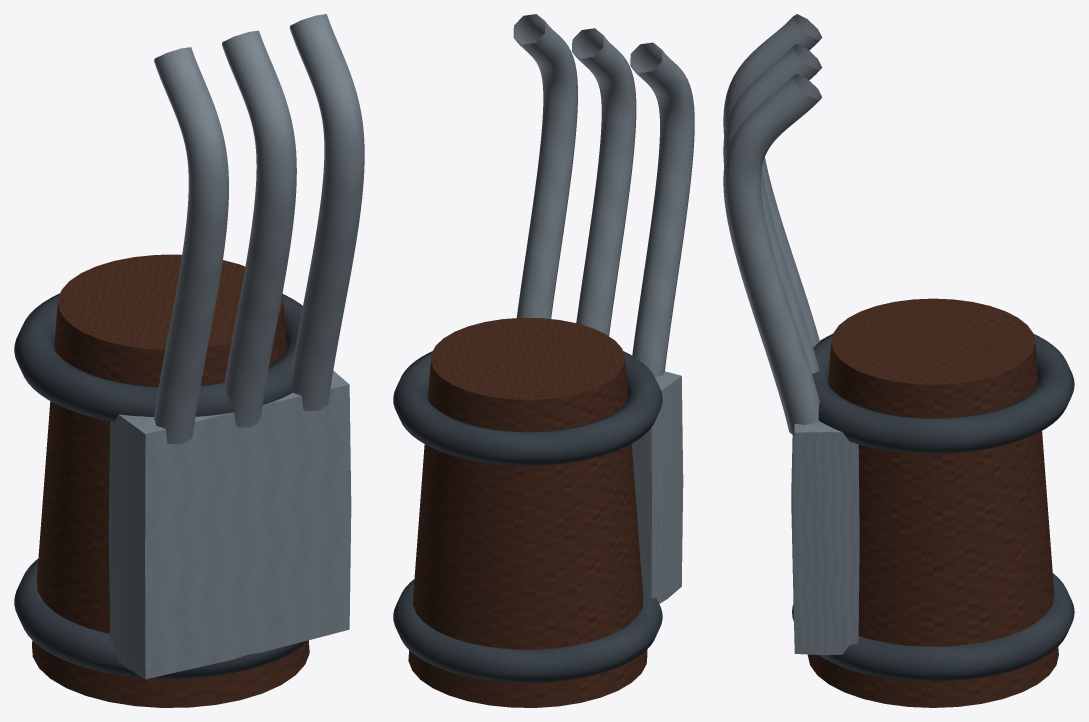
Rendered from talons.glb.
3 views of the same model, side by side, from view 1: azimuth 30°, elevation 25°; view 2: azimuth 150°, elevation 25°; view 3: azimuth 270°, elevation 25° (orthographic). The views are drawn at different scales.
Parts seen in each view (by area): view 1: steel.3, leather.0, steel.4, steel.6, steel.5, iron.2, iron.1; view 2: leather.0, iron.2, steel.4, steel.6, steel.5, iron.1, steel.3; view 3: leather.0, steel.3, steel.6, iron.2, iron.1, steel.5, steel.4.
Boxes of the visible parts, x1=… form: steel.3: x1=108, y1=371, x2=351, y2=679; leather.0: x1=32, y1=254, x2=309, y2=707; steel.4: x1=154, y1=47, x2=228, y2=444; steel.6: x1=289, y1=14, x2=364, y2=410; steel.5: x1=222, y1=30, x2=296, y2=427; iron.2: x1=14, y1=293, x2=302, y2=421; iron.1: x1=14, y1=559, x2=308, y2=678; leather.0: x1=408, y1=317, x2=647, y2=707; iron.2: x1=393, y1=351, x2=662, y2=465; steel.4: x1=630, y1=42, x2=694, y2=377; steel.6: x1=513, y1=14, x2=577, y2=318; steel.5: x1=572, y1=28, x2=636, y2=335; iron.1: x1=393, y1=579, x2=662, y2=682; steel.3: x1=631, y1=371, x2=683, y2=603; leather.0: x1=807, y1=298, x2=1058, y2=707; steel.3: x1=791, y1=421, x2=859, y2=655; steel.6: x1=723, y1=74, x2=821, y2=435; iron.2: x1=812, y1=334, x2=1074, y2=453; iron.1: x1=792, y1=573, x2=1074, y2=681; steel.5: x1=723, y1=44, x2=822, y2=373; steel.4: x1=723, y1=14, x2=822, y2=346.
Bounding box in the file's own units: 0.18 × 0.4275 × 0.2237.
3 materials, 3 textured.
